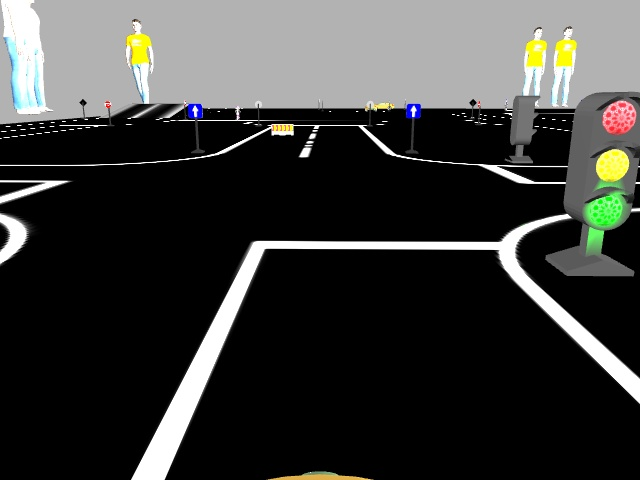ClosedRoadStand: (271, 124, 293, 135)
OneWay: (189, 102, 200, 116), (407, 103, 419, 115)
TrafficLight: (568, 86, 635, 229)
